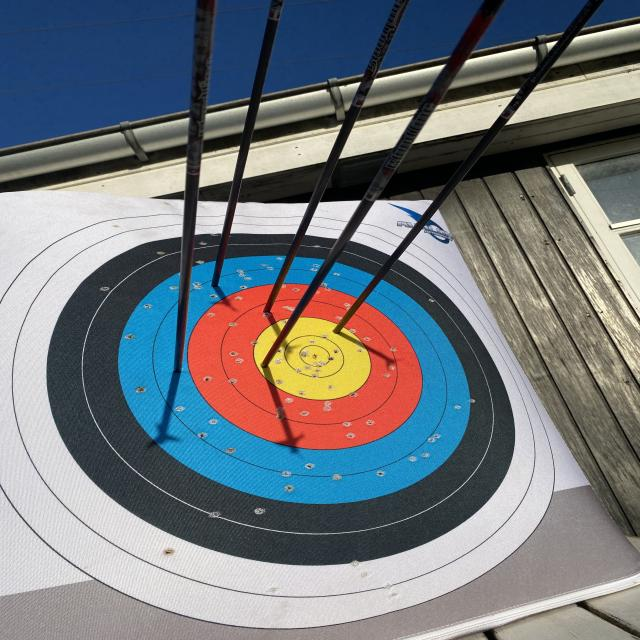Arrow_Blue: (158, 319, 199, 364), (201, 267, 238, 295)
Arrow_Red: (245, 297, 293, 330)
Arrow_Yellow: (244, 344, 286, 381), (320, 320, 356, 341)
